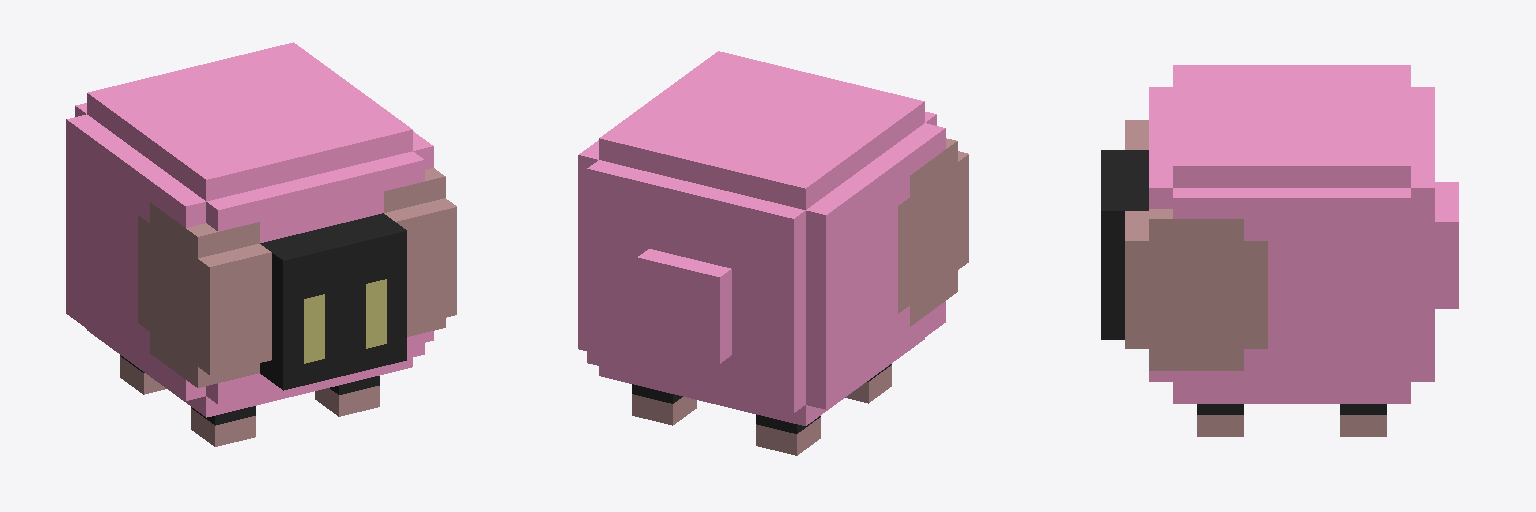
3 renders of one model, left to right at view 1: azimuth 30°, elevation 25°; view 2: azimuth 150°, elevation 25°; view 3: azimuth 270°, elevation 25°, orthographic.
Parts seen in each view (by area): view 1: object 1; view 2: object 1; view 3: object 1.
Boxes of the visible parts, box(x1,y1,x2,y2) form: object 1: box(66, 42, 456, 446); object 1: box(578, 51, 968, 455); object 1: box(1101, 65, 1458, 436).
Bounding box in the file's own units: 1.2 × 1.3 × 1.5.
Materials: 1 (1 with a texture image).